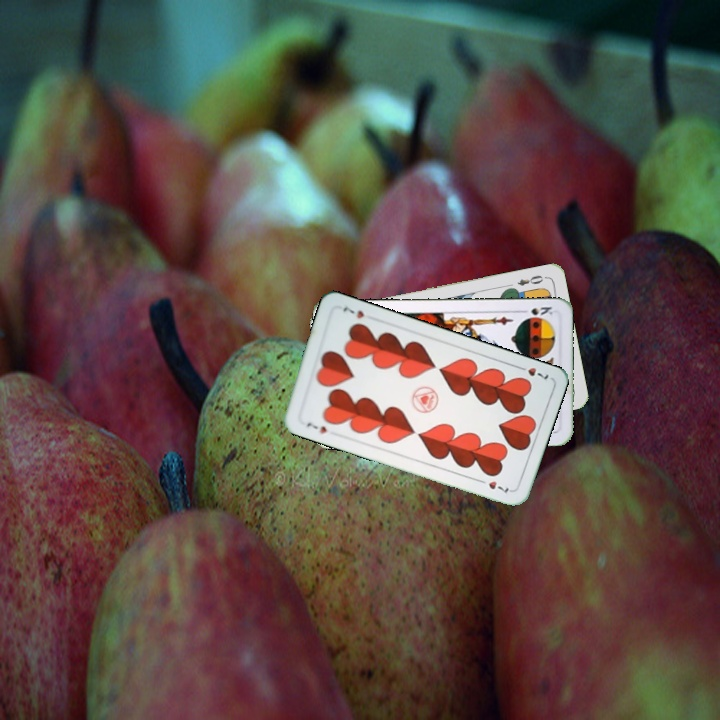EO: (513, 271, 546, 288)
H7: (513, 362, 552, 382), (303, 418, 329, 436)
SK: (516, 303, 555, 318)
